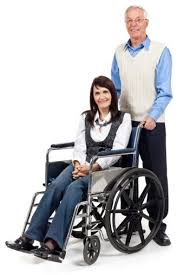wheelchair: (5, 75, 165, 265)
